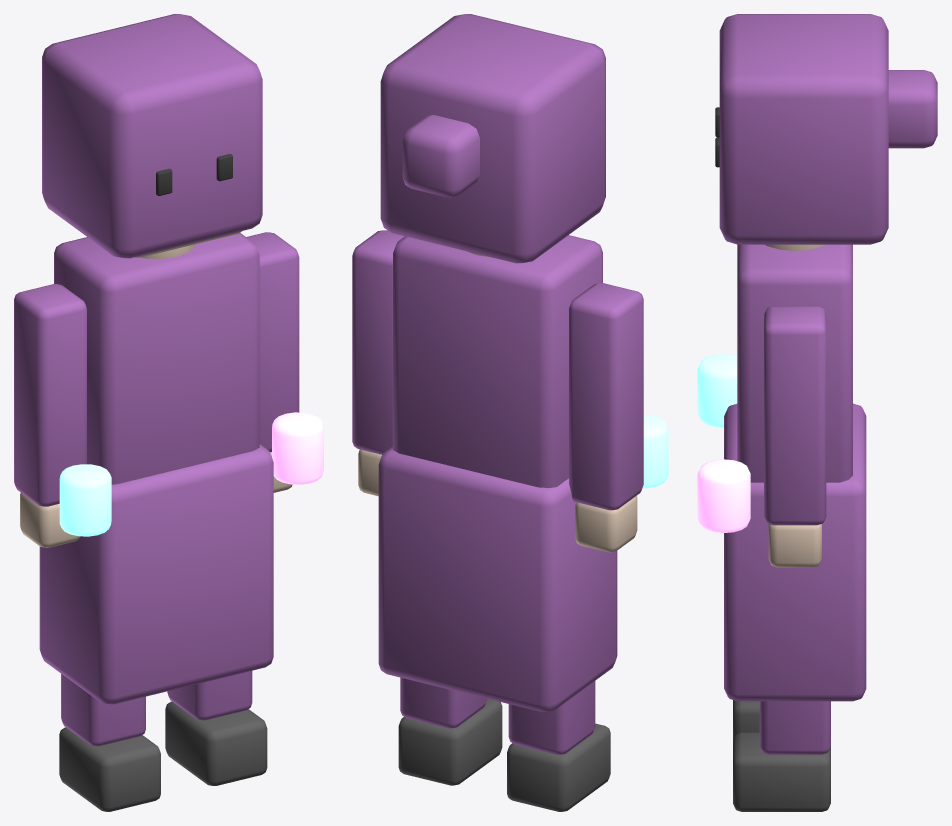
The model's file is npc_alchemist.glb.
3 views of the same model, side by side, from view 1: azimuth 30°, elevation 25°; view 2: azimuth 150°, elevation 25°; view 3: azimuth 270°, elevation 25° (orthographic). The views are drawn at different scales.
Visible parts, largest first — view 1: Aria_Skirt, Aria_Hood, Aria_Torso, Aria_Arm_L, Aria_Arm_R, Aria_Shoe_R, Aria_Shoe_L, Aria_Leg_L, Aria_Pot_L, Aria_Pot_R, Aria_Leg_R, Aria_Hand_L; view 2: Aria_Skirt, Aria_Hood, Aria_Torso, Aria_Arm_L, Aria_Arm_R, Aria_Shoe_R, Aria_Shoe_L, Aria_Hood_Tip, Aria_Leg_L, Aria_Leg_R, Aria_Hand_L, Aria_Pot_L (+1 smaller); view 3: Aria_Hood, Aria_Skirt, Aria_Torso, Aria_Arm_R, Aria_Shoe_R, Aria_Hood_Tip, Aria_Leg_R, Aria_Pot_R, Aria_Pot_L, Aria_Hand_R, Aria_Shoe_L.
Part boxes in pixels (x1,y1,x2,y2): Aria_Skirt: [39, 444, 273, 704]; Aria_Hood: [42, 14, 262, 258]; Aria_Torso: [54, 233, 259, 484]; Aria_Arm_L: [14, 284, 86, 506]; Aria_Arm_R: [246, 232, 299, 452]; Aria_Shoe_R: [165, 701, 267, 785]; Aria_Shoe_L: [59, 727, 160, 811]; Aria_Leg_L: [61, 674, 145, 746]; Aria_Pot_L: [59, 464, 111, 536]; Aria_Pot_R: [272, 412, 323, 484]; Aria_Leg_R: [167, 671, 252, 720]; Aria_Hand_L: [20, 492, 80, 547]; Aria_Skirt: [378, 446, 617, 711]; Aria_Hood: [380, 14, 605, 263]; Aria_Torso: [393, 235, 602, 487]; Aria_Arm_L: [569, 283, 643, 510]; Aria_Arm_R: [352, 230, 404, 454]; Aria_Shoe_R: [398, 698, 502, 785]; Aria_Shoe_L: [507, 723, 610, 811]; Aria_Hood_Tip: [402, 115, 479, 197]; Aria_Leg_L: [508, 681, 595, 754]; Aria_Leg_R: [400, 677, 486, 728]; Aria_Hand_L: [575, 496, 637, 552]; Aria_Pot_L: [642, 414, 668, 488]; Aria_Hood: [719, 14, 888, 244]; Aria_Skirt: [724, 403, 866, 701]; Aria_Torso: [737, 244, 852, 482]; Aria_Arm_R: [764, 306, 826, 525]; Aria_Shoe_R: [733, 732, 830, 811]; Aria_Hood_Tip: [888, 70, 937, 148]; Aria_Leg_R: [759, 701, 830, 754]; Aria_Pot_R: [697, 459, 750, 532]; Aria_Pot_L: [697, 354, 737, 427]; Aria_Hand_R: [768, 524, 821, 567]; Aria_Shoe_L: [733, 700, 759, 739].
Size of the model in its own units: 0.69 by 1.81 by 0.54.
